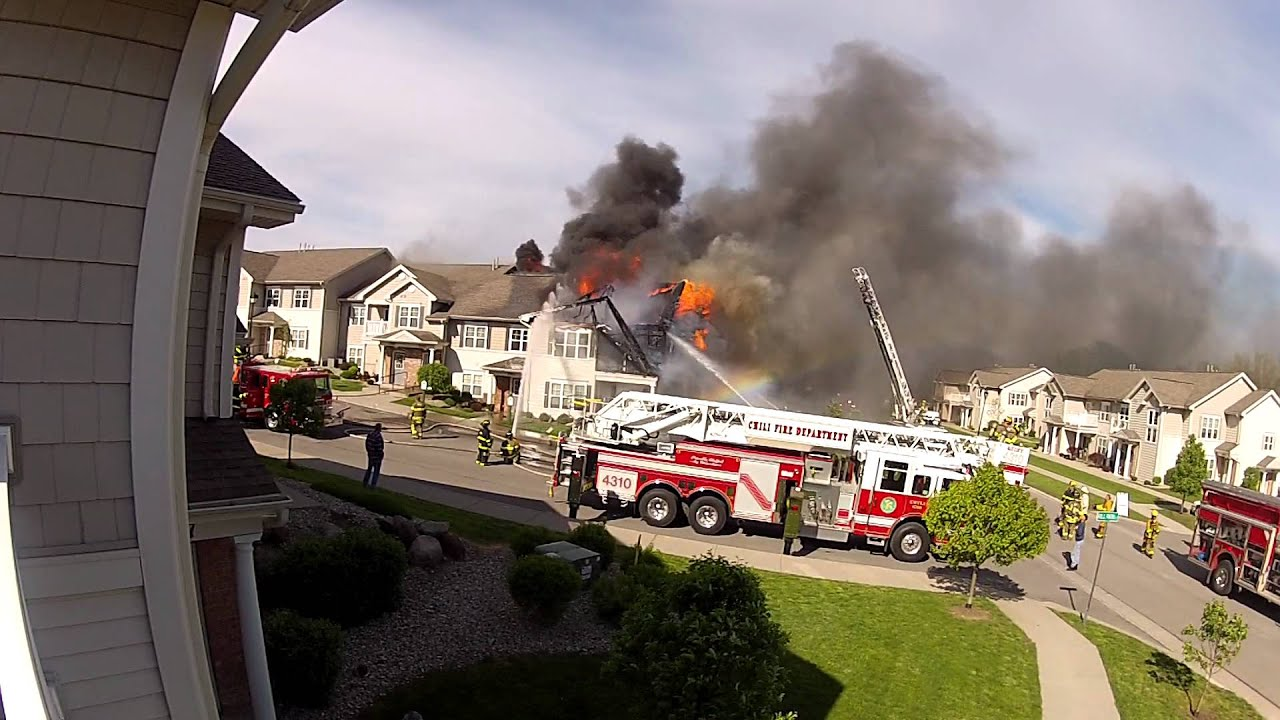smoke: (606, 40, 1271, 376)
